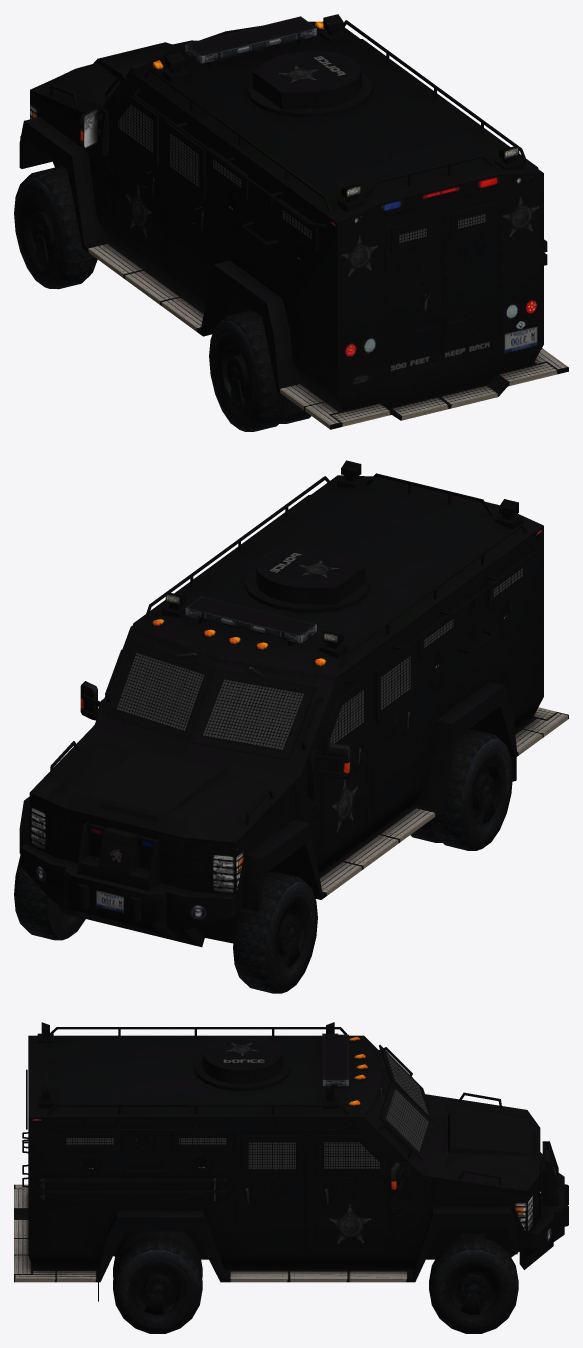
File: swat_van.glb
3 renders of one model, top to bottom at view 1: azimuth 30°, elevation 25°; view 2: azimuth 150°, elevation 25°; view 3: azimuth 270°, elevation 25°, orthographic. The views are drawn at different scales.
Visible parts, largest first — view 1: Object_2; view 2: Object_2; view 3: Object_2.
Boxes of the visible parts, bbox=[...] form: Object_2: bbox=[14, 14, 568, 431]; Object_2: bbox=[14, 460, 568, 993]; Object_2: bbox=[14, 1022, 568, 1333].
Size of the model in its own units: 2.18 by 2.25 by 4.83.
1 material, 1 textured.
